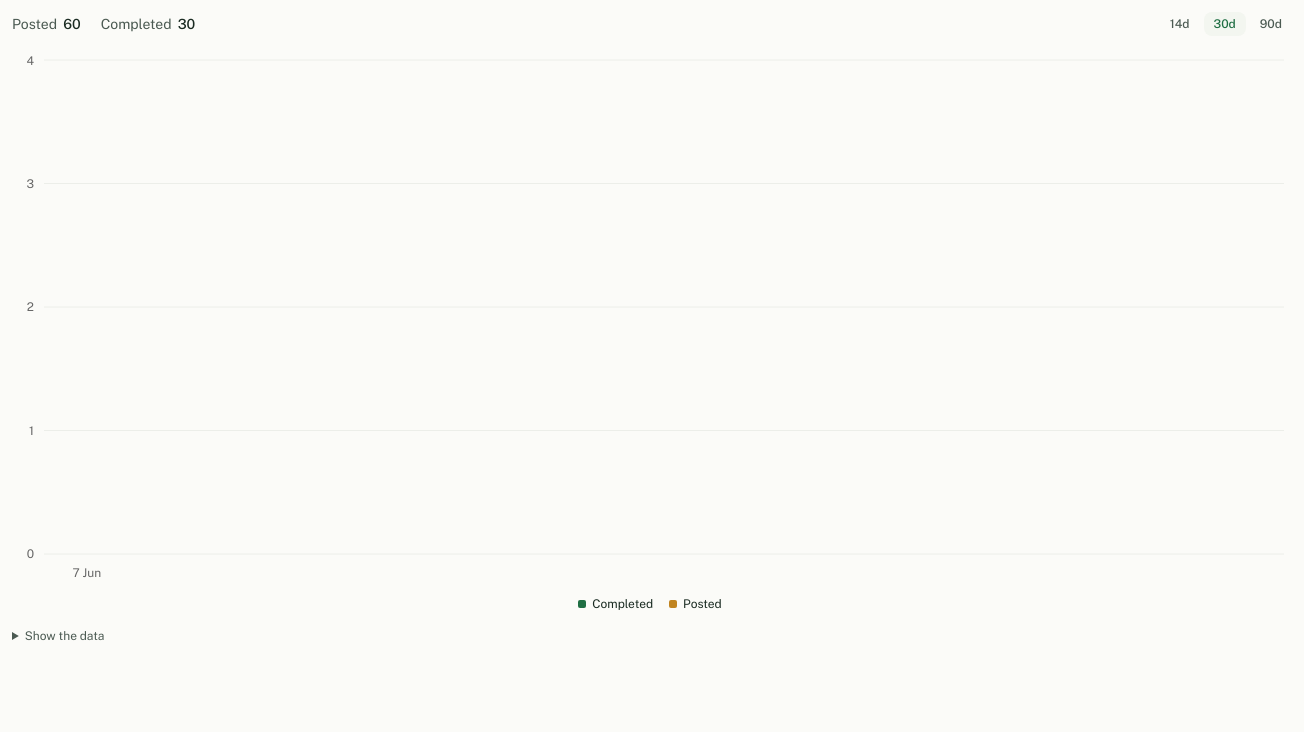
Test case: ActivityChart › re-totals when the range changes, without refetching
Click the button "14d": x=1180, y=24 [1160,12,1200,36]
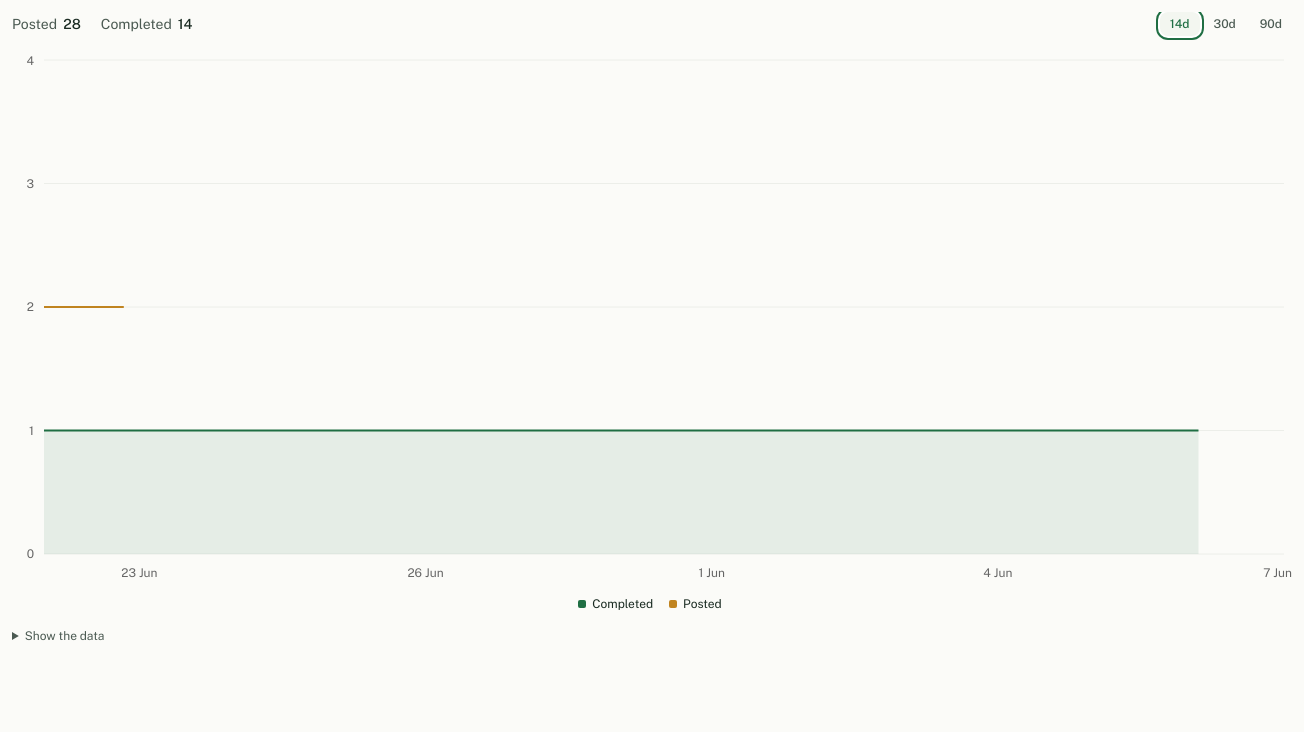
Now the text "28" is shown, box [63,14,81,34]
Click the button "90d": x=1271, y=24 [1250,12,1292,36]
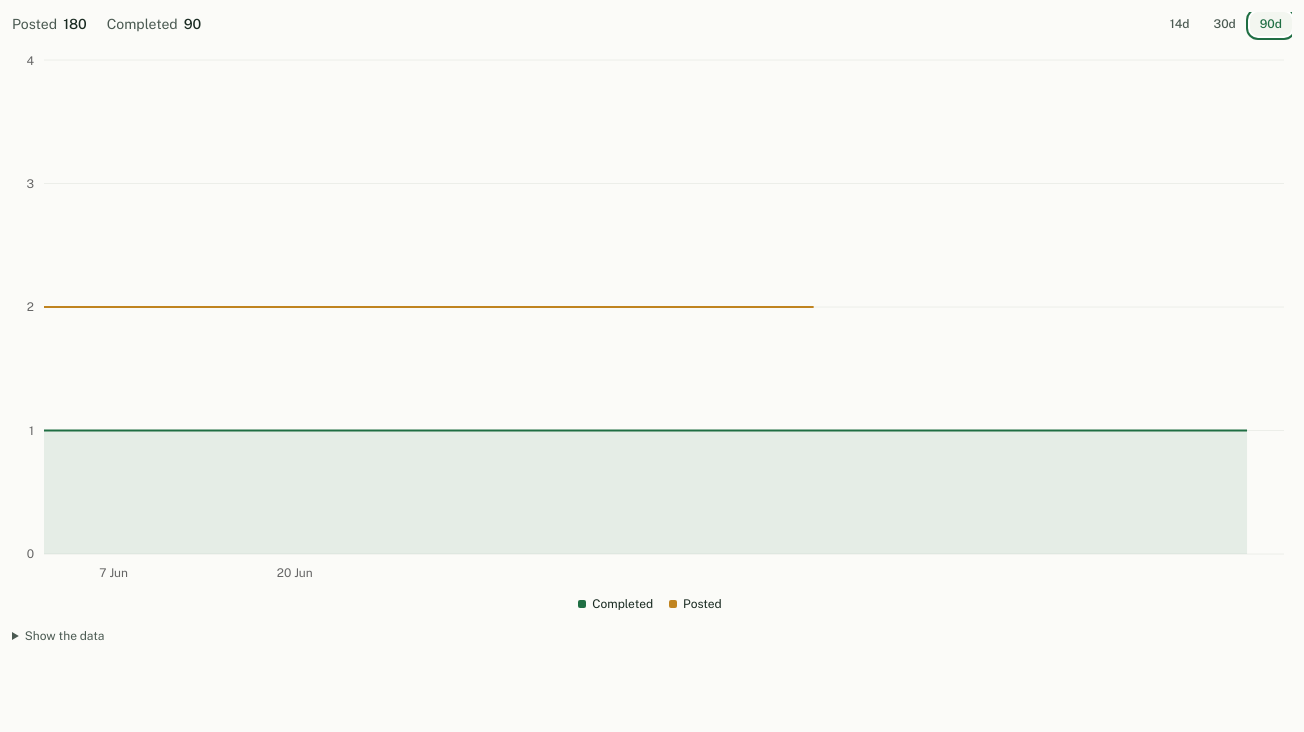
Now the text "180" is shown, box [63,14,87,34]
